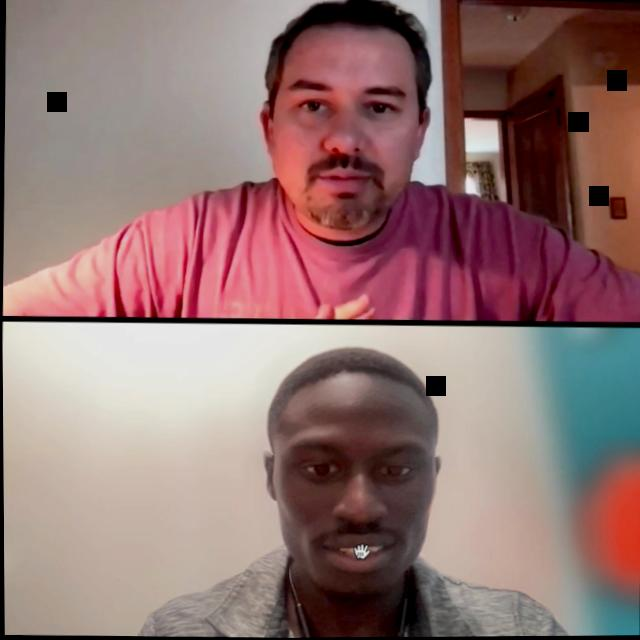NO-Mask: (255, 367, 443, 603), (254, 23, 434, 237)
